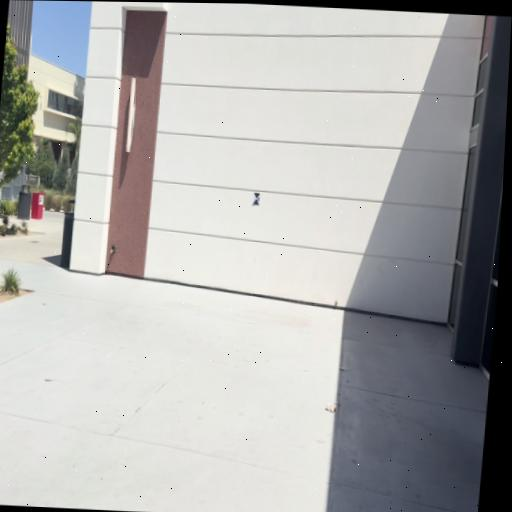target0: (252, 191, 260, 206)
